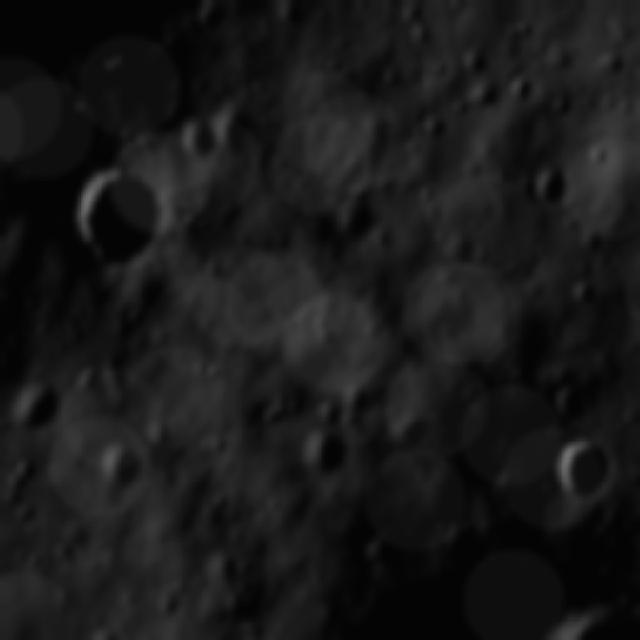crater: (65, 146, 182, 277), (511, 578, 640, 640), (538, 426, 624, 512), (8, 360, 70, 435), (295, 418, 362, 479), (93, 434, 158, 494), (217, 89, 271, 157), (324, 188, 385, 246), (545, 376, 601, 430), (164, 111, 218, 166), (385, 408, 429, 458), (528, 170, 580, 208), (458, 41, 489, 81), (507, 68, 536, 108), (550, 89, 576, 123), (275, 0, 310, 25)
